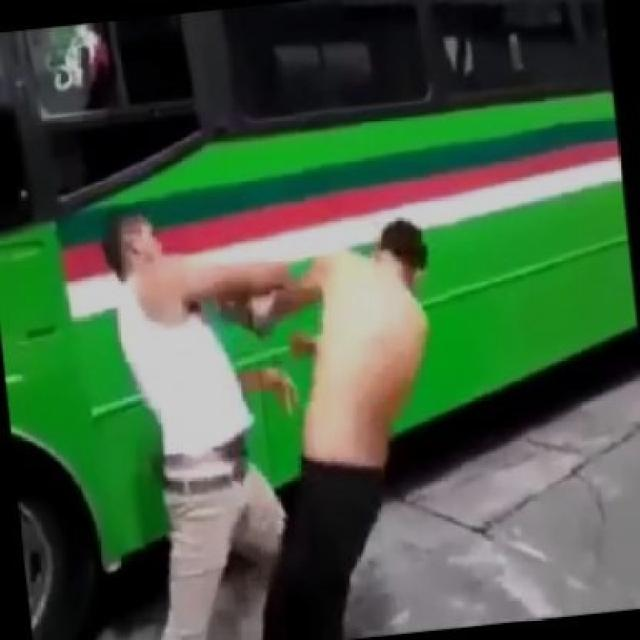fight: (31, 127, 503, 638)
